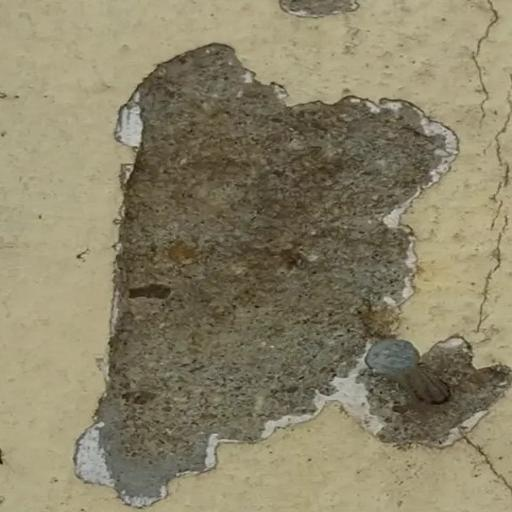spalling: (88, 9, 499, 499)
